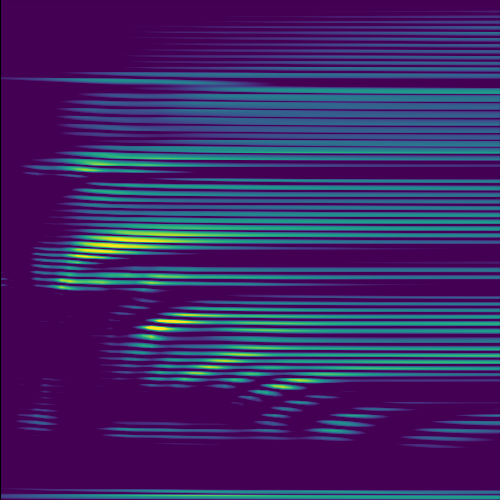semblance: (63, 219, 224, 262), (60, 139, 198, 179), (138, 294, 237, 340), (191, 338, 283, 376), (263, 371, 324, 398)
